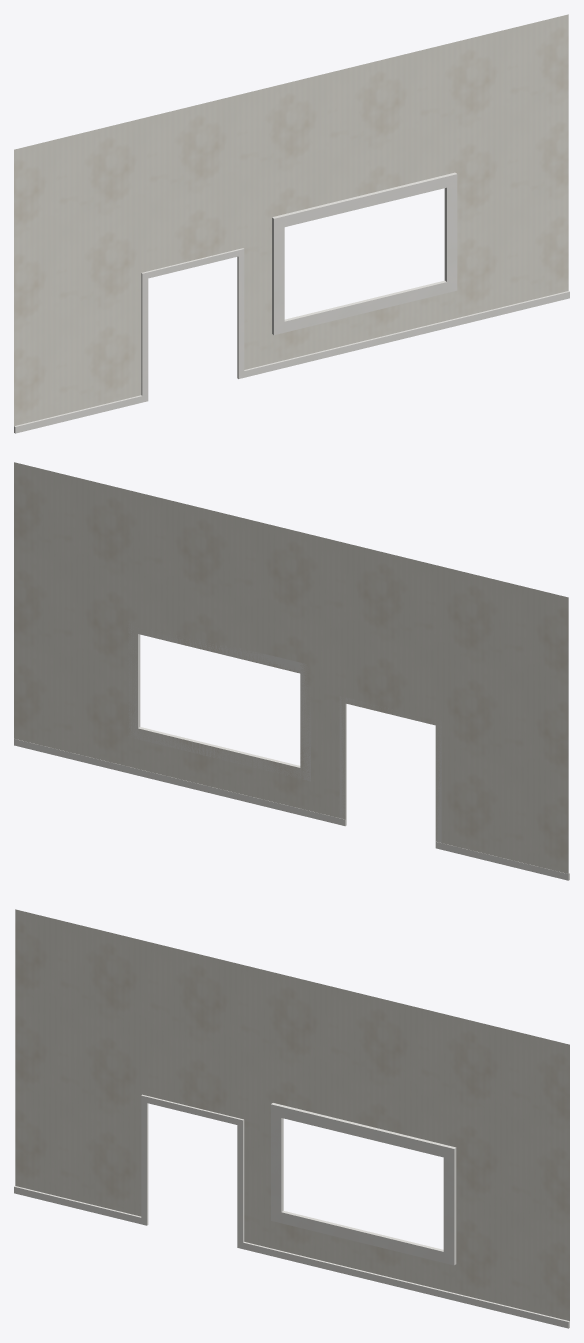
3 views of the same model, one above another, from view 1: azimuth 30°, elevation 25°; view 2: azimuth 150°, elevation 25°; view 3: azimuth 330°, elevation 25° (orthographic).
Parts seen in each view (by area): view 1: jx_wm_12_168cf337; view 2: jx_wm_12_168cf337; view 3: jx_wm_12_168cf337.
Boxes of the visible parts, x1,y1,x2,y2 form: jx_wm_12_168cf337: (14, 14, 569, 433); jx_wm_12_168cf337: (14, 462, 569, 880); jx_wm_12_168cf337: (14, 909, 569, 1328).
Size of the model in its own units: 12.3 by 6 by 0.086.
2 materials, 2 textured.
